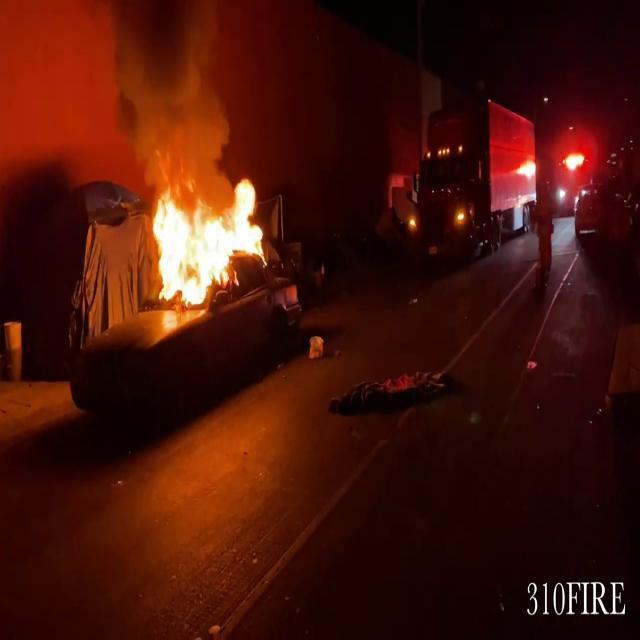Fire: (144, 167, 272, 310)
Smoke: (0, 1, 242, 182)
